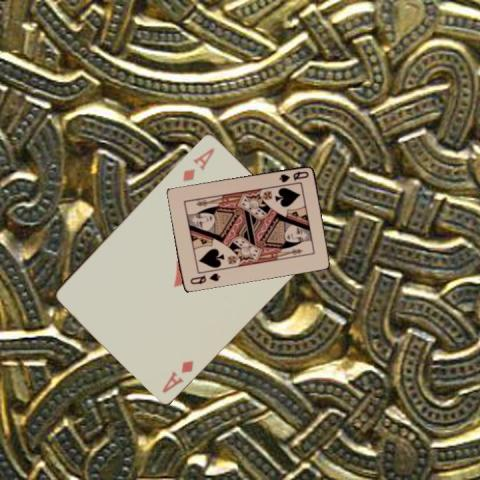Ad: (179, 144, 216, 183), (159, 357, 195, 394)
Qs: (276, 168, 310, 183), (187, 270, 221, 285)
